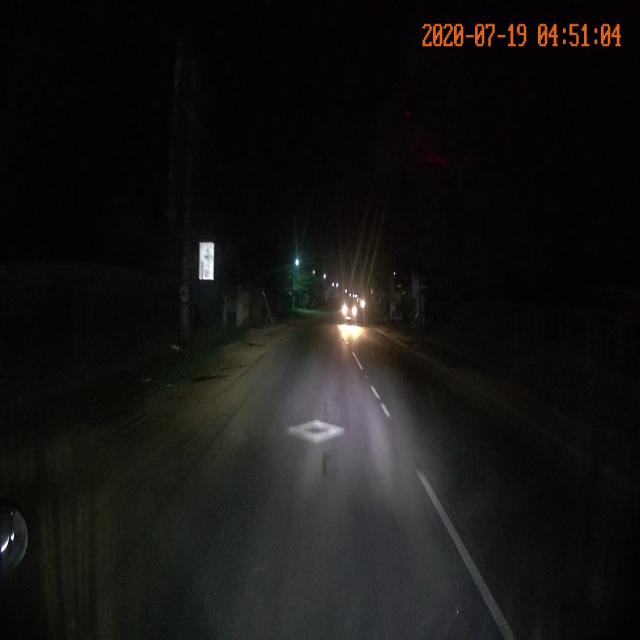Romb: (283, 420, 350, 444)
